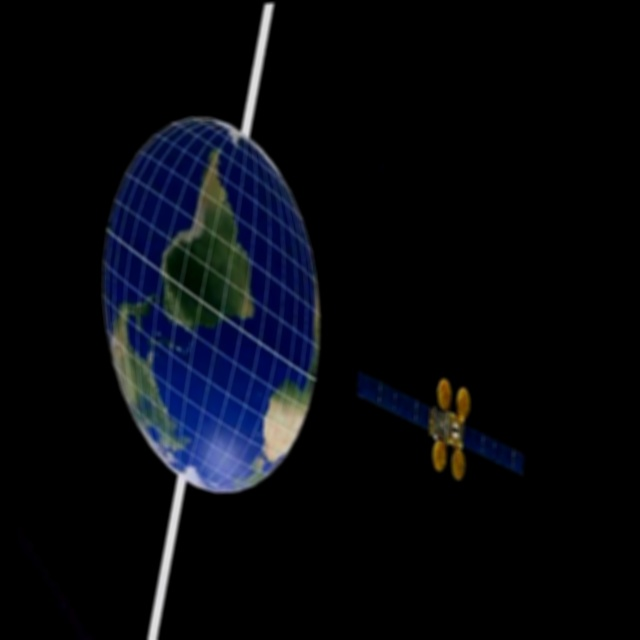satellite: (344, 324, 536, 511)
